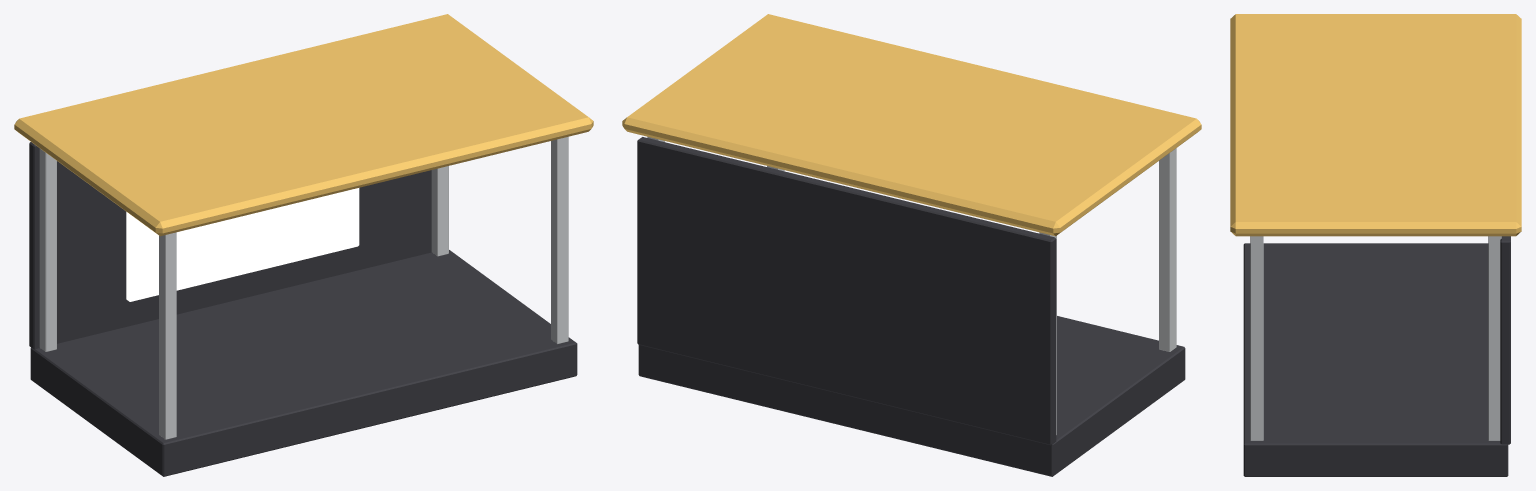
The model's file is festival_stage.glb.
3 views of the same model, side by side, from view 1: azimuth 30°, elevation 25°; view 2: azimuth 150°, elevation 25°; view 3: azimuth 270°, elevation 25° (orthographic).
Parts seen in each view (by area): view 1: festival_stage; view 2: festival_stage; view 3: festival_stage.
Boxes of the visible parts, x1,y1,x2,y2 form: festival_stage: [14, 14, 593, 476]; festival_stage: [622, 14, 1201, 476]; festival_stage: [1230, 14, 1521, 476].
Bounding box in the file's own units: 19 × 10.8 × 11.
